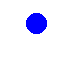circle: (26, 13, 46, 33)
